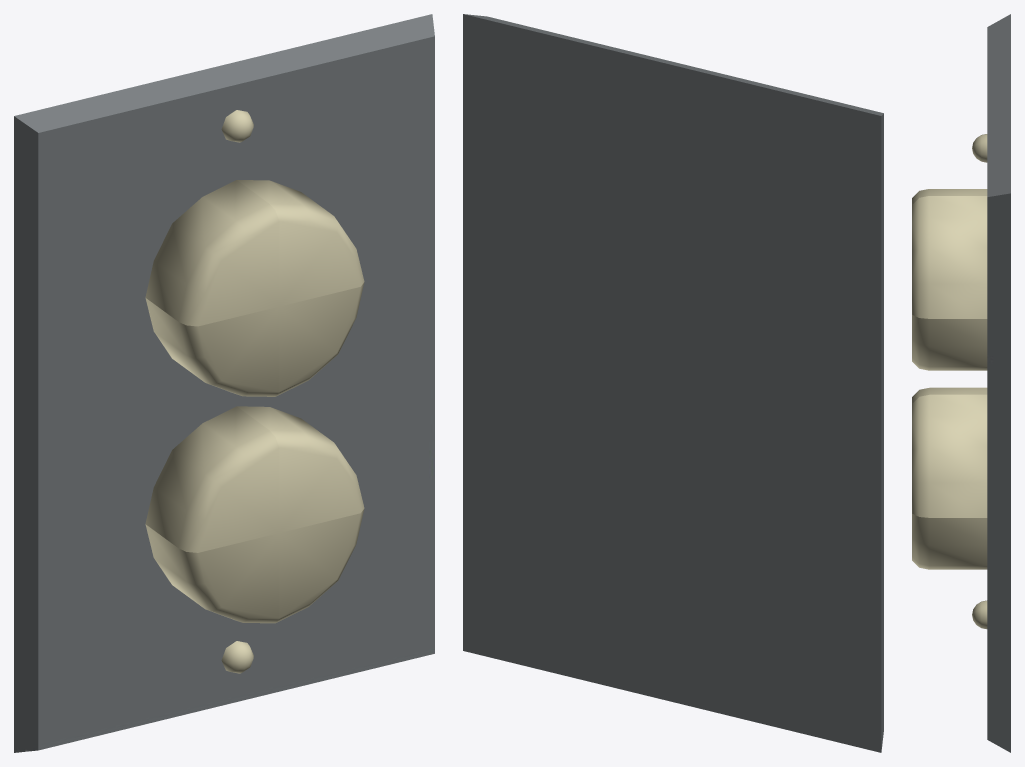
Rendered from m_duck_outlet1_lod1.fbx.
The picture shows the model from 3 angles, left to right: view 1: azimuth 30°, elevation 25°; view 2: azimuth 150°, elevation 25°; view 3: azimuth 270°, elevation 25°; orthographic projection. The views are drawn at different scales.
Parts seen in each view (by area): view 1: polySurface4; view 2: polySurface4; view 3: polySurface4.
Boxes of the visible parts, x1,y1,x2,y2 form: polySurface4: [14, 14, 434, 752]; polySurface4: [463, 14, 883, 752]; polySurface4: [912, 14, 1010, 752].
Bounding box in the file's own units: 2.75 × 4 × 0.6402.
